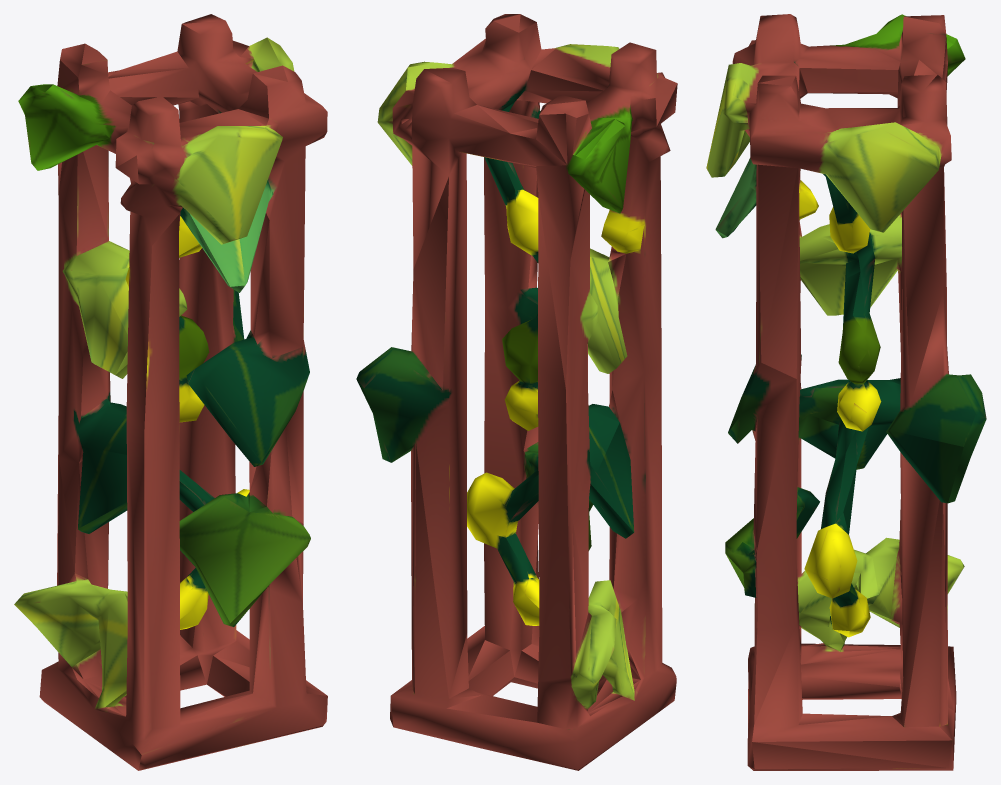
File: ivy-vine.glb
3 views of the same model, side by side, from view 1: azimuth 30°, elevation 25°; view 2: azimuth 150°, elevation 25°; view 3: azimuth 270°, elevation 25° (orthographic). The views are drawn at different scales.
Parts seen in each view (by area): view 1: geometry_0; view 2: geometry_0; view 3: geometry_0.
Boxes of the visible parts, box(x1,y1,x2,y2) form: geometry_0: box(14, 14, 327, 770); geometry_0: box(356, 14, 677, 770); geometry_0: box(706, 14, 986, 770).
Size of the model in its own units: 0.376 by 0.9995 by 0.3764.
Materials: 1 (1 with a texture image).
